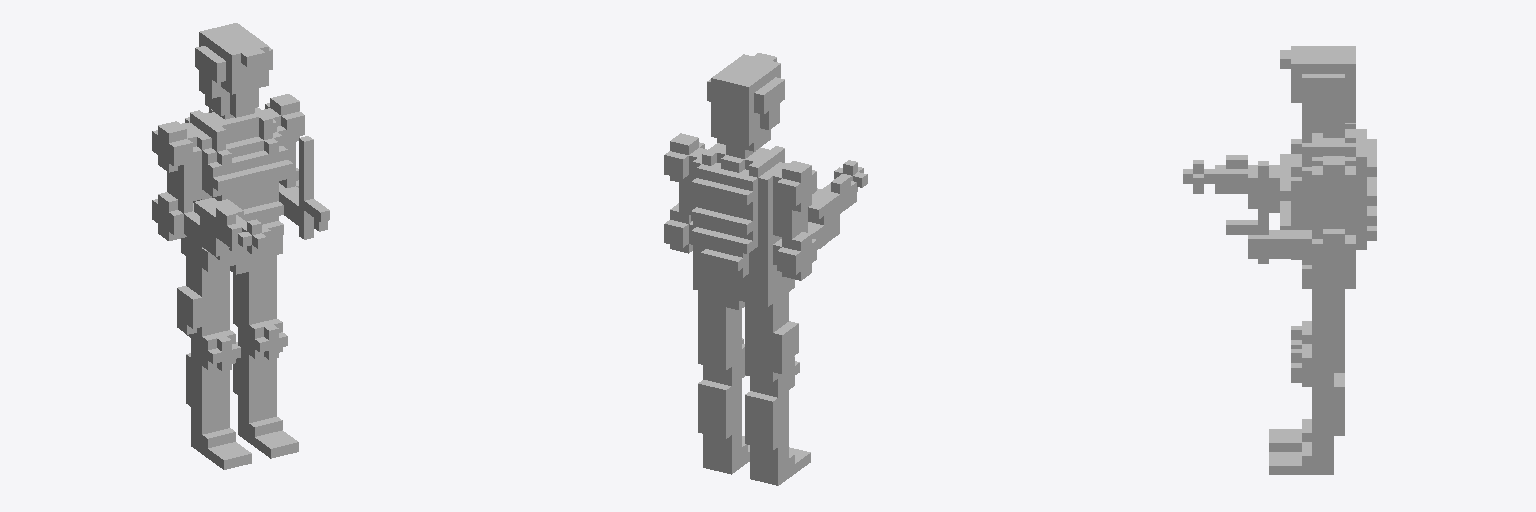
Rendered from Gestapo-1.obj.
3 views of the same model, side by side, from view 1: azimuth 30°, elevation 25°; view 2: azimuth 150°, elevation 25°; view 3: azimuth 270°, elevation 25° (orthographic).
Parts seen in each view (by area): view 1: Untitled; view 2: Untitled; view 3: Untitled.
Part boxes in pixels (bbox=[...]): Untitled: bbox=[152, 23, 329, 469]; Untitled: bbox=[664, 53, 867, 485]; Untitled: bbox=[1183, 46, 1376, 474].
Size of the model in its own units: 1.4 by 4.1 by 1.8.